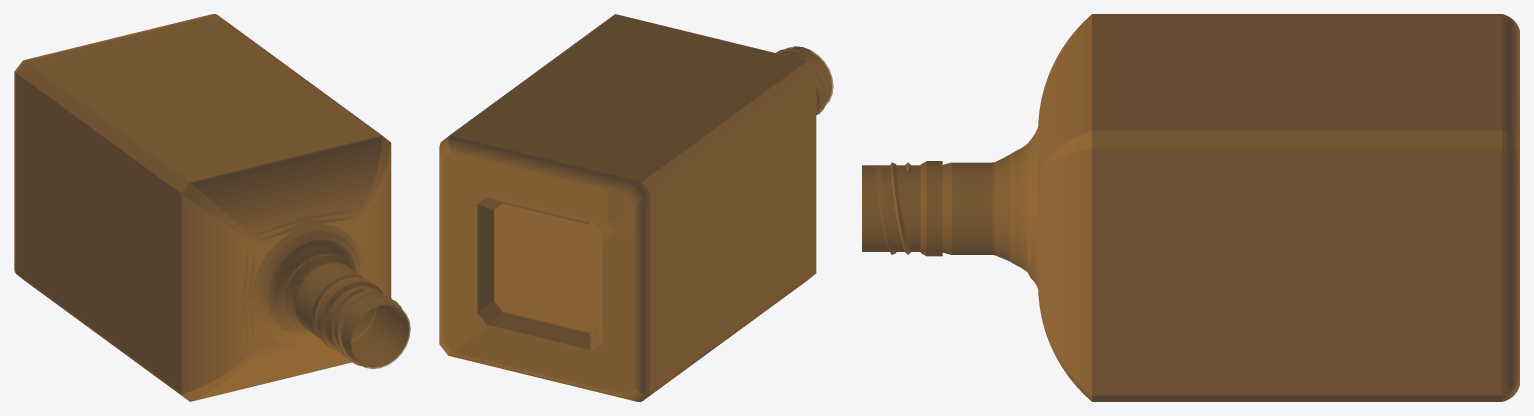
The model's file is model_align.obj.
3 views of the same model, side by side, from view 1: azimuth 30°, elevation 25°; view 2: azimuth 150°, elevation 25°; view 3: azimuth 270°, elevation 25° (orthographic). The views are drawn at different scales.
Parts seen in each view (by area): view 1: mesh2_mesh2-geometry, mesh1_mesh1-geometry; view 2: mesh2_mesh2-geometry, mesh1_mesh1-geometry; view 3: mesh2_mesh2-geometry, mesh1_mesh1-geometry.
Part boxes in pixels (<box>): mesh2_mesh2-geometry: <box>14,14,410,401</box>; mesh1_mesh1-geometry: <box>326,286,409,367</box>; mesh2_mesh2-geometry: <box>439,14,833,401</box>; mesh1_mesh1-geometry: <box>785,51,831,107</box>; mesh2_mesh2-geometry: <box>862,14,1519,401</box>; mesh1_mesh1-geometry: <box>862,175,920,249</box>.
Size of the model in its own units: 0.1162 by 0.1162 by 0.2548.
